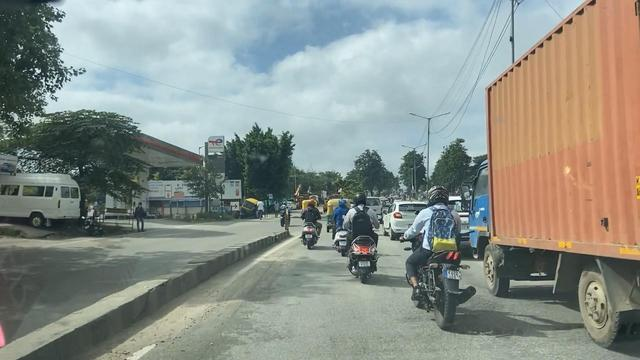LMV: (420, 190, 457, 325), (346, 194, 380, 282), (303, 201, 322, 246)
